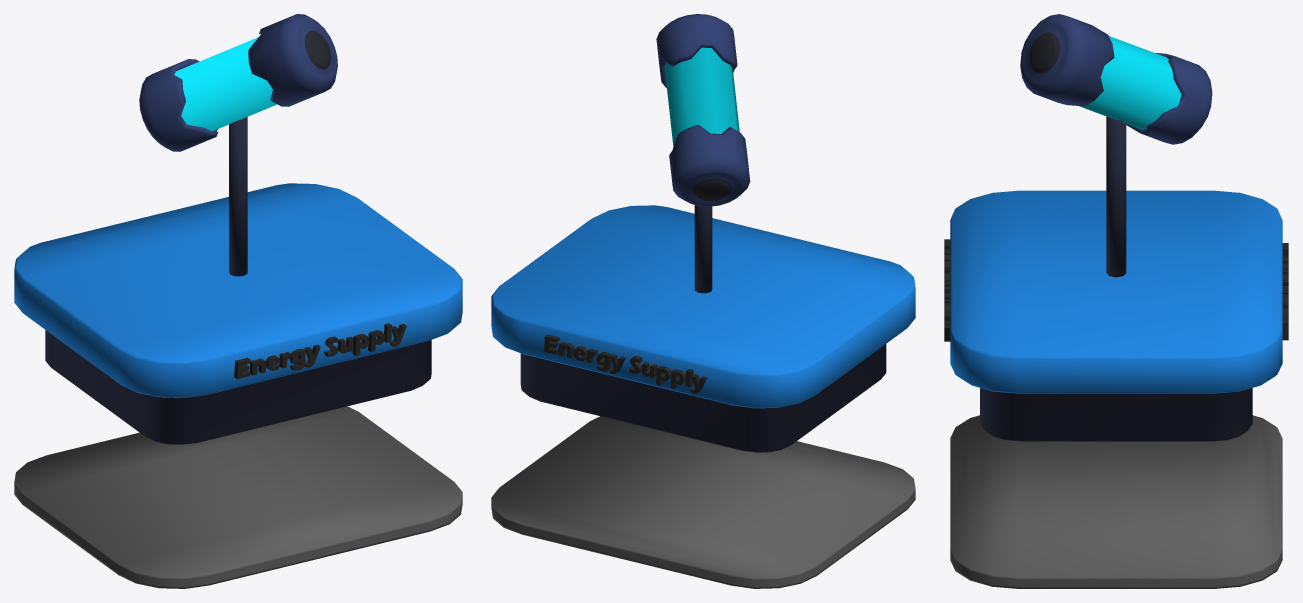
File: CycleEngine_stand_v2 (2).fbx
3 views of the same model, side by side, from view 1: azimuth 30°, elevation 25°; view 2: azimuth 150°, elevation 25°; view 3: azimuth 270°, elevation 25° (orthographic). The views are drawn at different scales.
Parts seen in each view (by area): view 1: stand, Cylinder.011, bigBottle, barre, font; view 2: stand, Cylinder.011, bigBottle, font.001, barre; view 3: stand, Cylinder.011, bigBottle, barre, font, font.001.
Part boxes in pixels (x1,y1,x2,y2): stand: (14, 183, 462, 444); Cylinder.011: (14, 406, 462, 588); bigBottle: (139, 14, 337, 151); barre: (229, 117, 247, 276); font: (234, 323, 406, 379); stand: (491, 205, 915, 452); Cylinder.011: (491, 416, 915, 588); bigBottle: (656, 14, 750, 206); font.001: (544, 334, 707, 393); barre: (694, 205, 712, 293); stand: (950, 190, 1282, 441); Cylinder.011: (950, 415, 1282, 588); bigBottle: (1020, 14, 1212, 144); barre: (1106, 116, 1126, 277); font: (944, 239, 950, 341); font.001: (1282, 243, 1288, 340).
Size of the model in its own units: 1238 by 1732 by 1075.
